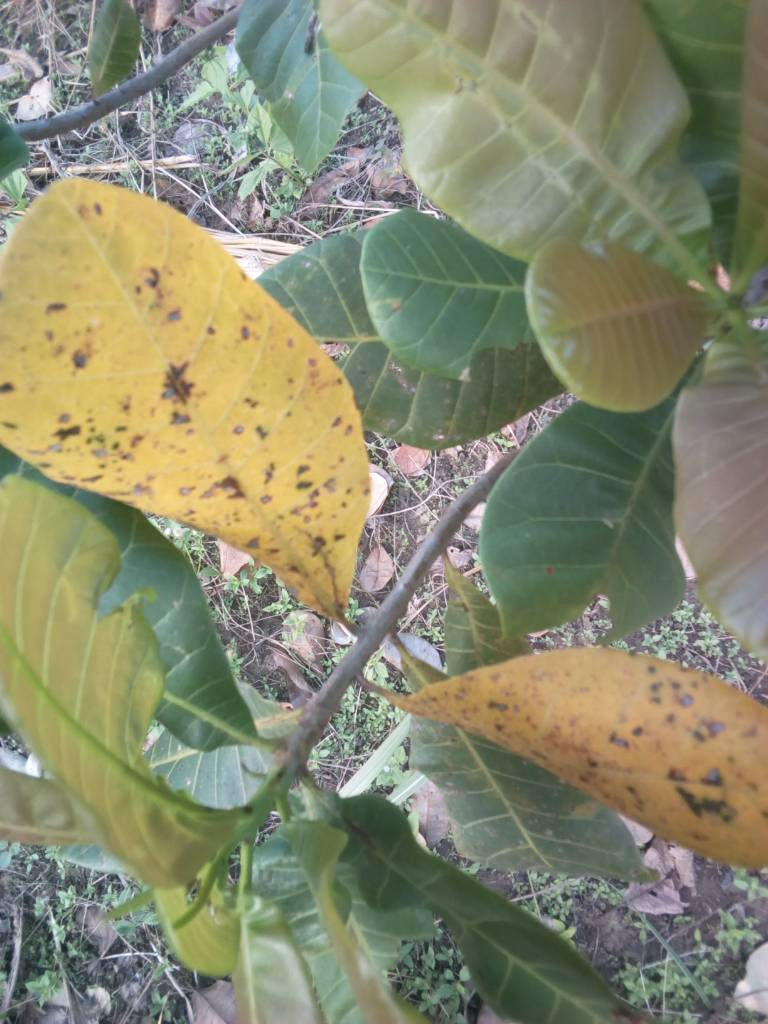Anthracnose: (1, 175, 366, 625), (379, 646, 765, 871)
